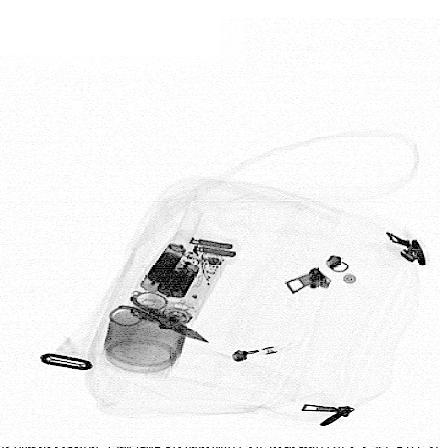Scissors: (107, 289, 208, 344)
